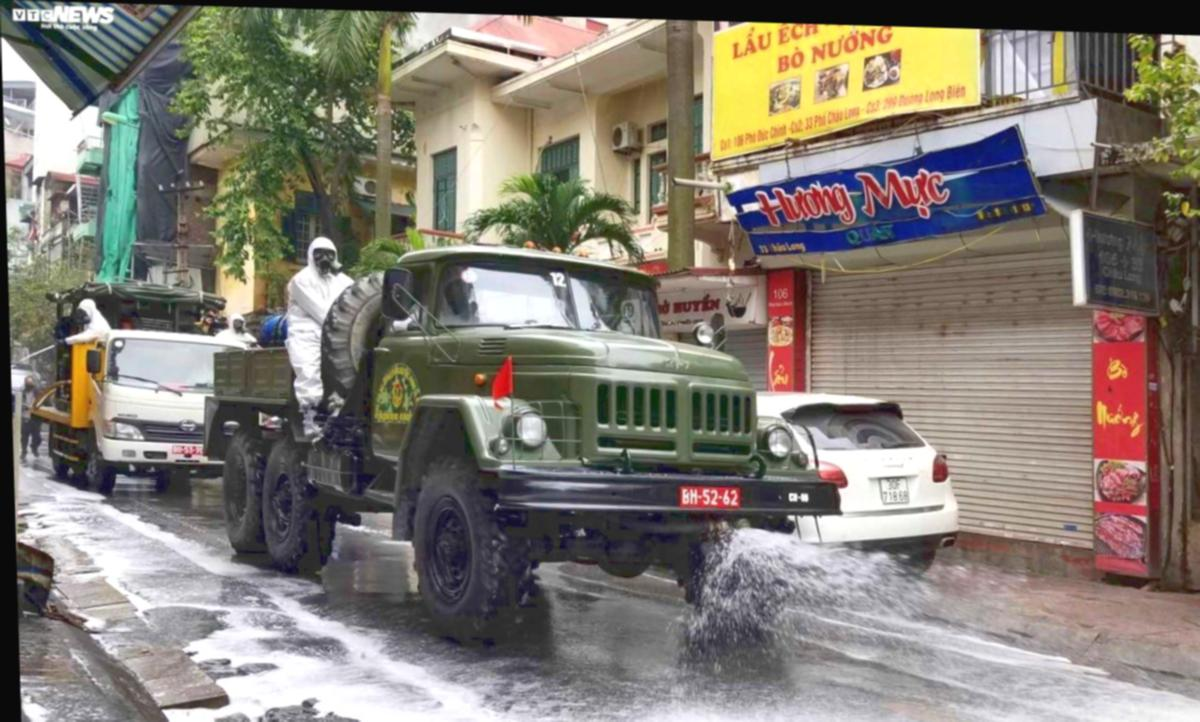License_Plate: (674, 483, 743, 514), (876, 474, 915, 508), (168, 439, 211, 458)
